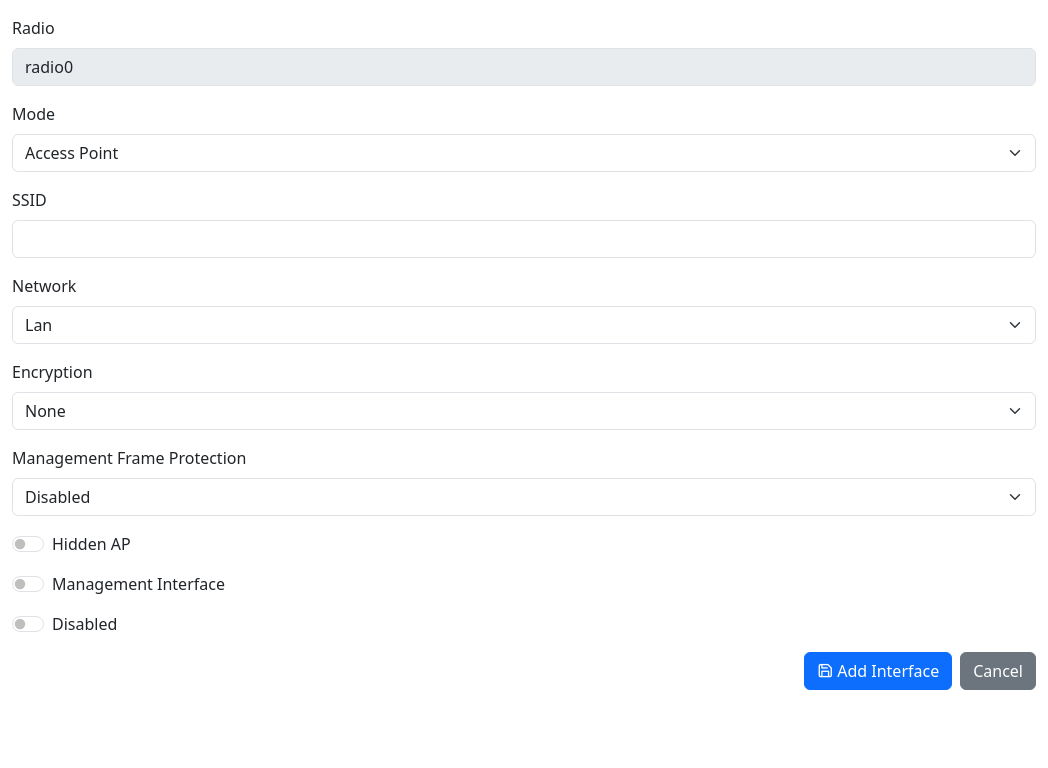
InterfaceForm › blocks submission and shows a field error when SSID is left blank
Click the button "Add Interface": [878, 671] box [804,652,952,690]
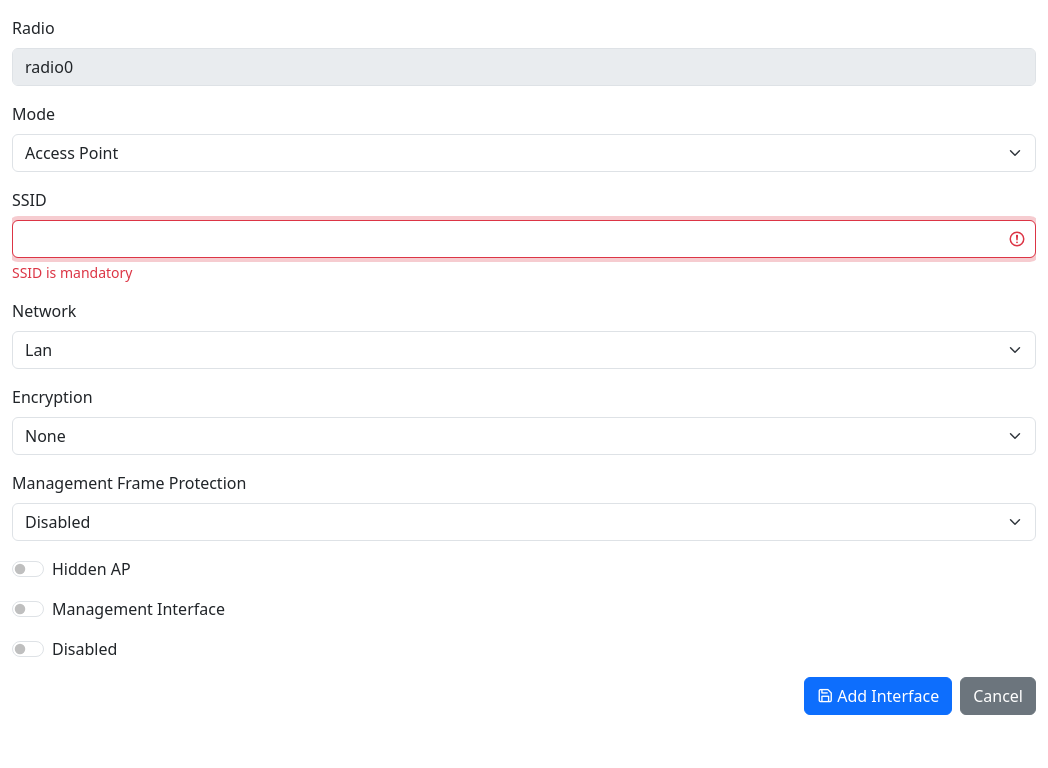
Now the text "SSID is mandatory" is shown, box [12,263,132,282]
